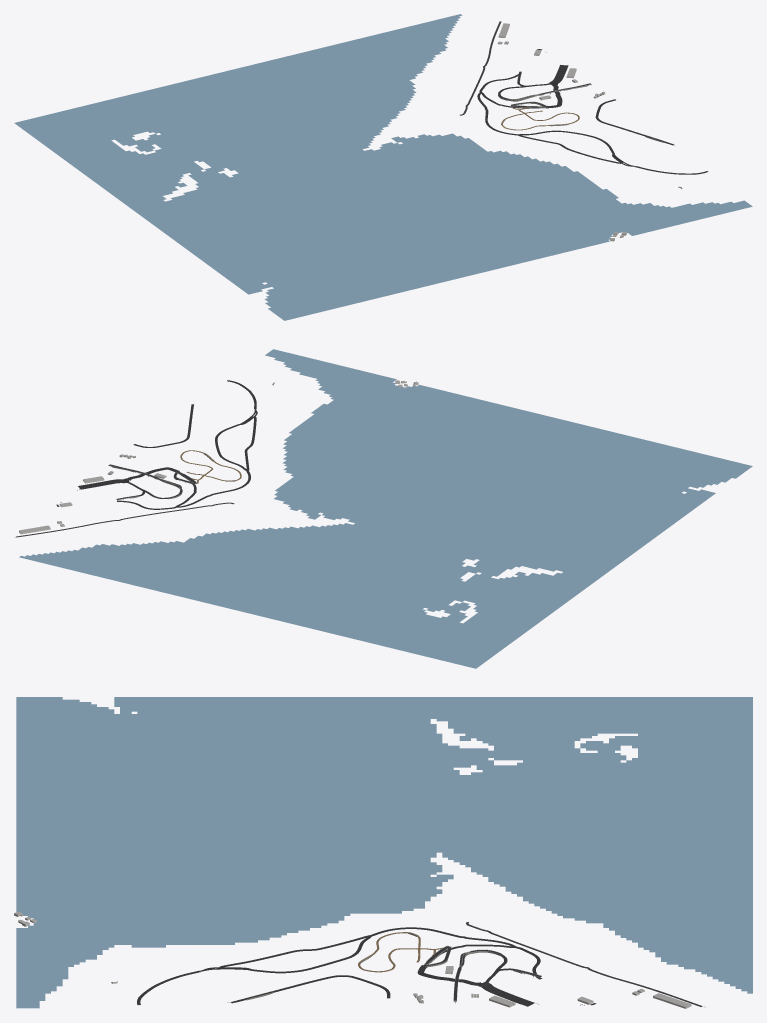
The model's file is chunk_4_4.glb.
The picture shows the model from 3 angles, top to bottom: view 1: azimuth 30°, elevation 25°; view 2: azimuth 150°, elevation 25°; view 3: azimuth 270°, elevation 25°; orthographic projection. The views are drawn at different scales.
Parts seen in each view (by area): view 1: Water_4_4, Roads_4_4, RoadSides_4_4; view 2: Water_4_4, Roads_4_4; view 3: Water_4_4, Roads_4_4, Buildings_4_4, RoadSides_4_4.
Part boxes in pixels (x1,y1,x2,y2): Water_4_4: (14, 14, 752, 320); Roads_4_4: (460, 21, 708, 174); RoadSides_4_4: (498, 72, 664, 142); Water_4_4: (19, 349, 752, 668); Roads_4_4: (15, 380, 257, 537); Water_4_4: (16, 697, 752, 1008); Roads_4_4: (137, 922, 705, 1007); Buildings_4_4: (111, 966, 691, 1008); RoadSides_4_4: (245, 932, 541, 1003).
Size of the model in its own units: 2070 by 30.14 by 2055.
